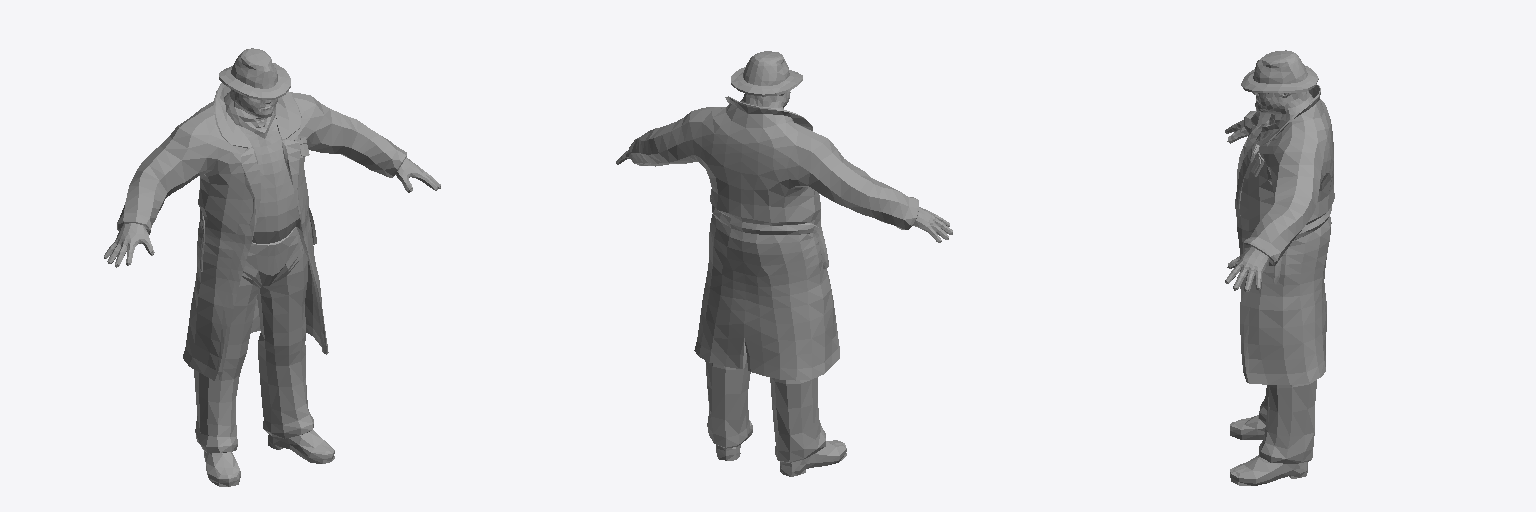
File: Bullock.obj
The picture shows the model from 3 angles: view 1: azimuth 30°, elevation 25°; view 2: azimuth 150°, elevation 25°; view 3: azimuth 270°, elevation 25°; orthographic projection.
Visible parts, largest first — view 1: mesh0000, mesh0000.001; view 2: mesh0000, mesh0000.001; view 3: mesh0000, mesh0000.001.
Boxes of the visible parts, x1,y1,x2,y2 form: mesh0000: [104, 48, 440, 486]; mesh0000.001: [183, 211, 328, 380]; mesh0000: [616, 51, 952, 476]; mesh0000.001: [694, 214, 839, 380]; mesh0000: [1225, 50, 1334, 485]; mesh0000.001: [1237, 216, 1331, 384].
Size of the model in its own units: 3.43 by 4.02 by 0.99.